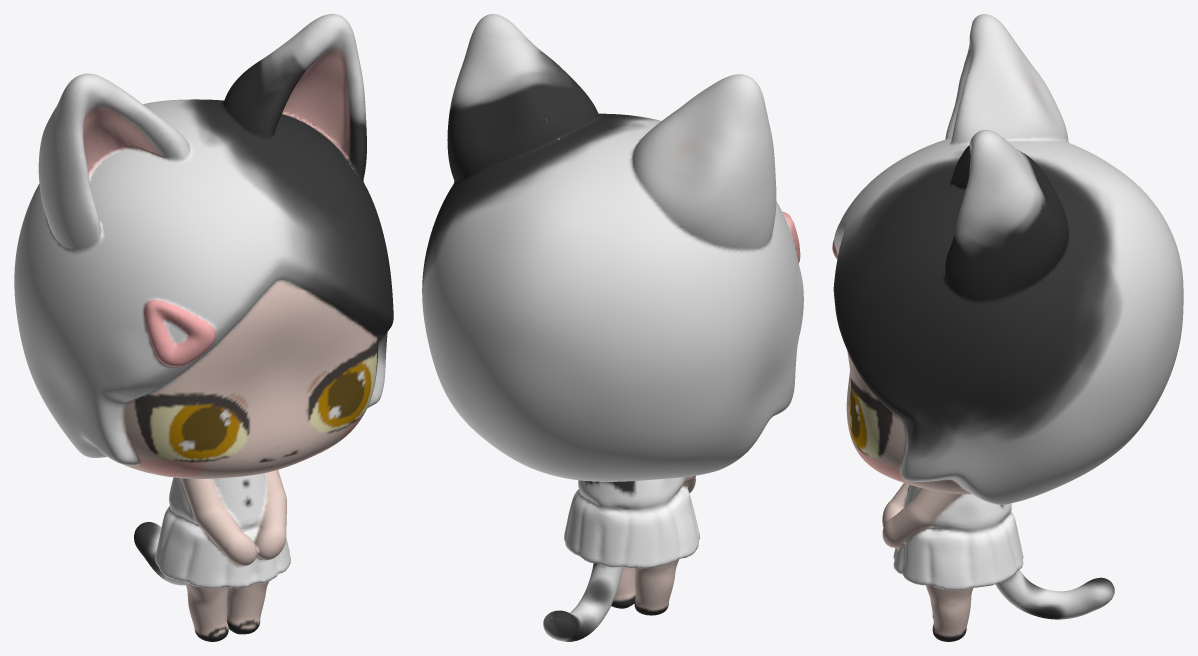
The model's file is CatFigure2_final.fbx.
3 renders of one model, left to right at view 1: azimuth 30°, elevation 25°; view 2: azimuth 150°, elevation 25°; view 3: azimuth 270°, elevation 25°, orthographic. The views are drawn at different scales.
Parts seen in each view (by area): view 1: 오.001; view 2: 오.001; view 3: 오.001.
Boxes of the visible parts, left/top/right/bottom form: 오.001: left=14, top=14, right=393, bottom=641; 오.001: left=422, top=14, right=803, bottom=641; 오.001: left=832, top=14, right=1183, bottom=641.
Bounding box in the file's own units: 112 × 192 × 110.
